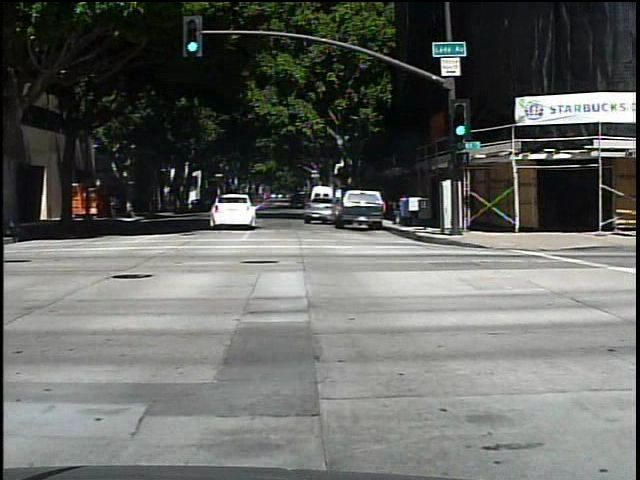person: (104, 186, 120, 220)
